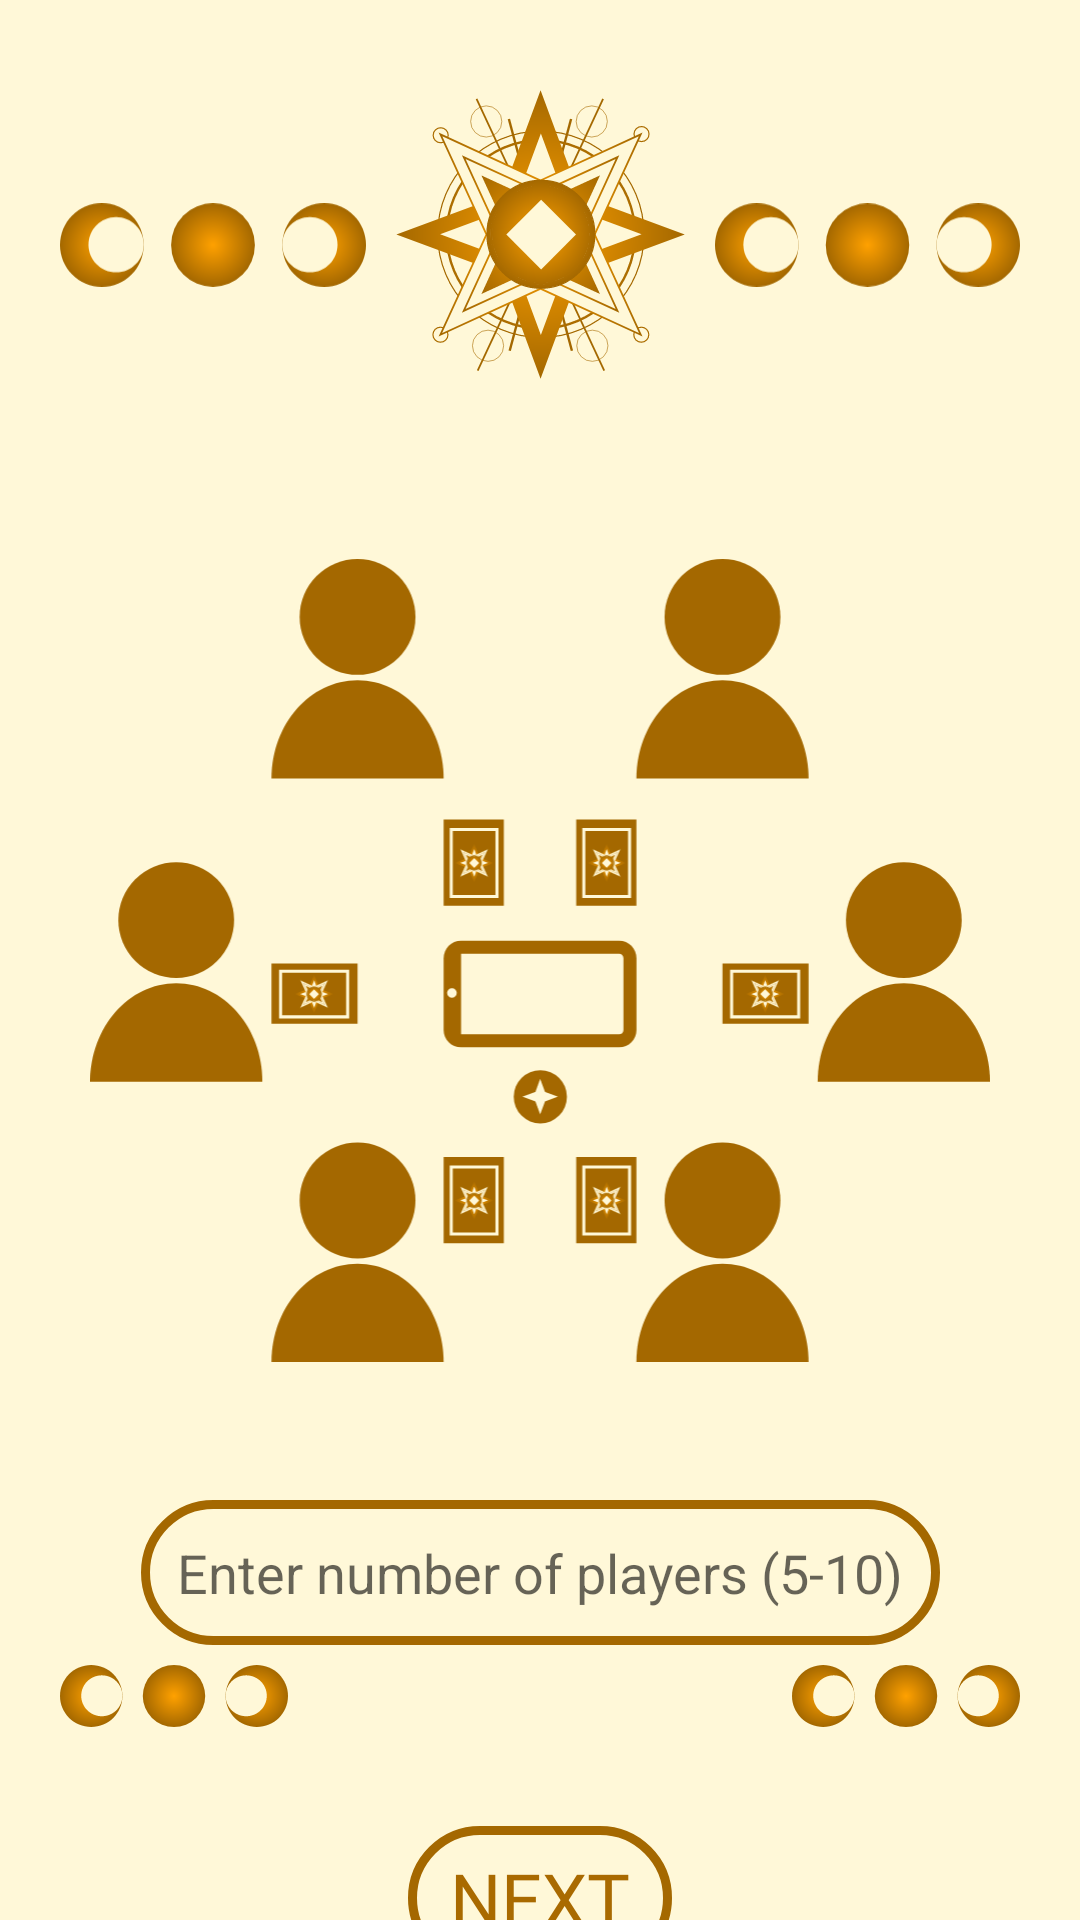

Screen size 1080px x 1920px. Icon name, then its box in pixels as (x1, y1, x2, y2):
moon phases: (60, 203, 366, 287), (715, 203, 1020, 287), (60, 1665, 288, 1727), (792, 1665, 1020, 1727)
sun with rays: (396, 90, 685, 379)
